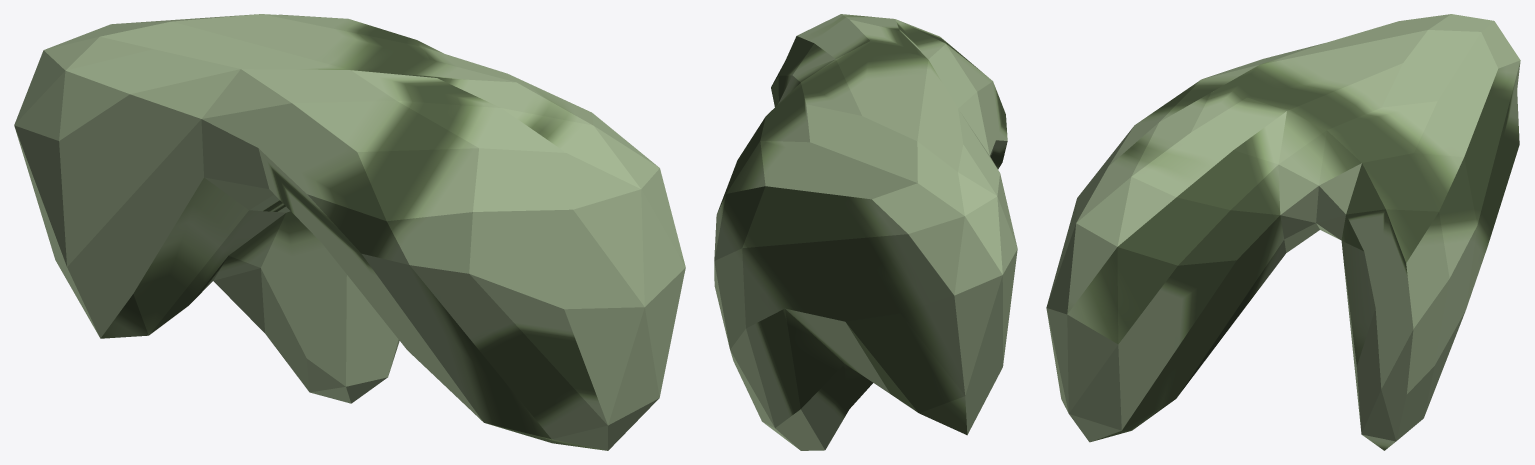
Rendered from EA_Swamp_Moss_01e.glb.
The picture shows the model from 3 angles, left to right: view 1: azimuth 30°, elevation 25°; view 2: azimuth 150°, elevation 25°; view 3: azimuth 270°, elevation 25°; orthographic projection. The views are drawn at different scales.
Visible parts, largest first — view 1: EA_Swamp_Moss_01e; view 2: EA_Swamp_Moss_01e; view 3: EA_Swamp_Moss_01e.
Part boxes in pixels (<box>): EA_Swamp_Moss_01e: <box>14,14,685,450</box>; EA_Swamp_Moss_01e: <box>714,14,1017,450</box>; EA_Swamp_Moss_01e: <box>1046,14,1520,450</box>.
Size of the model in its own units: 1.62 by 1.4 by 1.69.
1 material, 1 textured.
